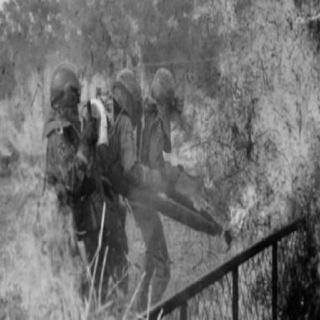Fire: (1, 59, 81, 318), (111, 13, 139, 67)
